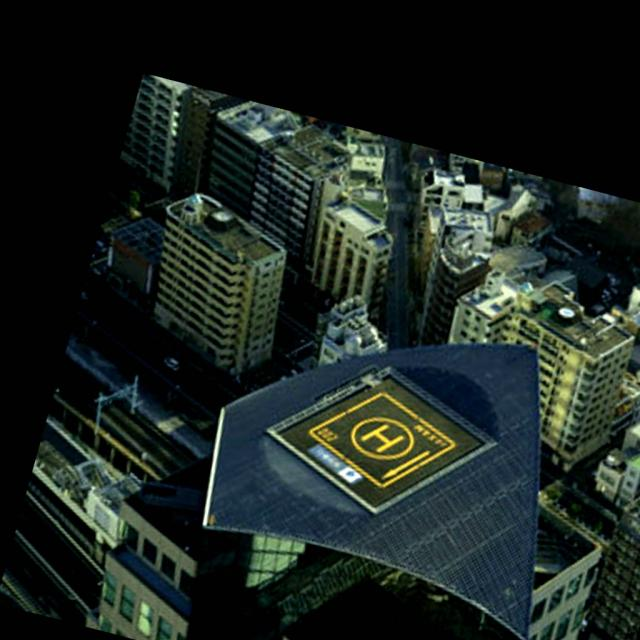helipad: (349, 414, 415, 460)
